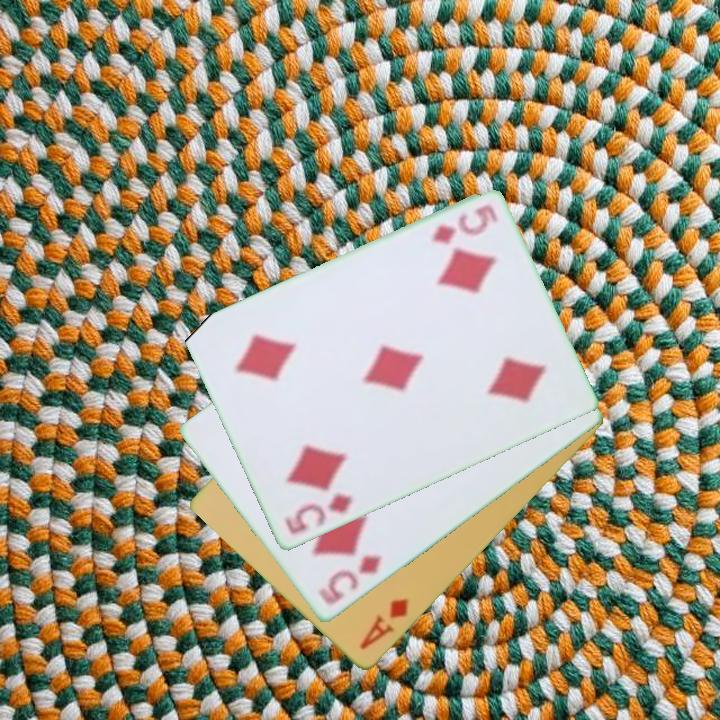5d: (315, 552, 386, 609), (280, 490, 355, 538), (426, 201, 501, 248)
Ad: (356, 595, 411, 654)
